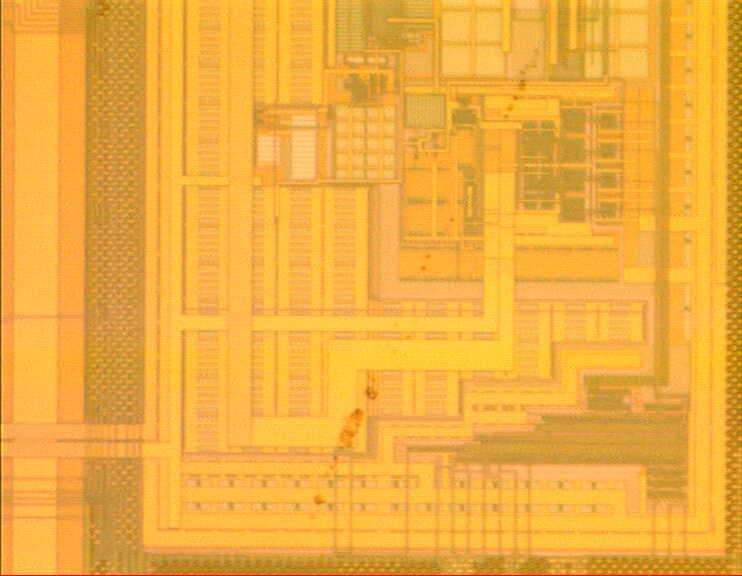SCRATCH: (306, 37, 555, 513)
